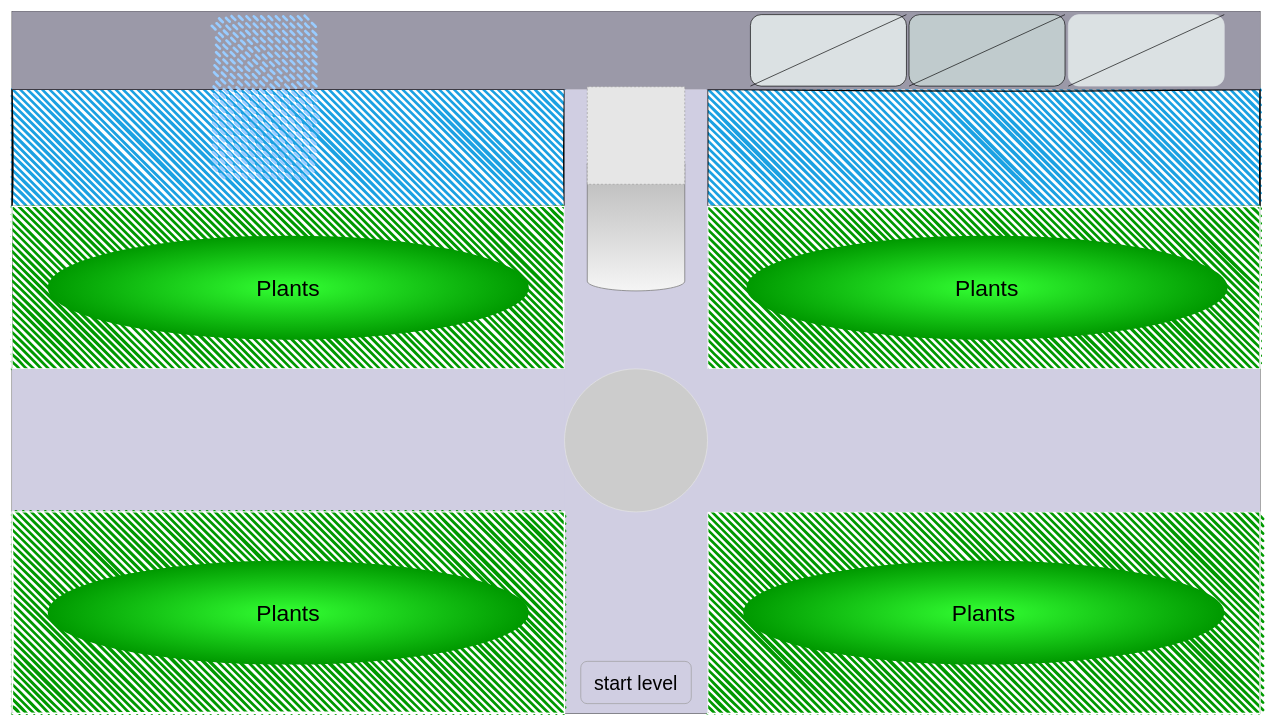
Image size: 1271x725. Some labels were removed from this diagram. Grey dashed boxes stand in for pictures. Here are the shapes that lost their labels. From the top down, the centre of each, then its label:
At point 636,222: "Enzyklopädie".
At point 636,440: "SP".
